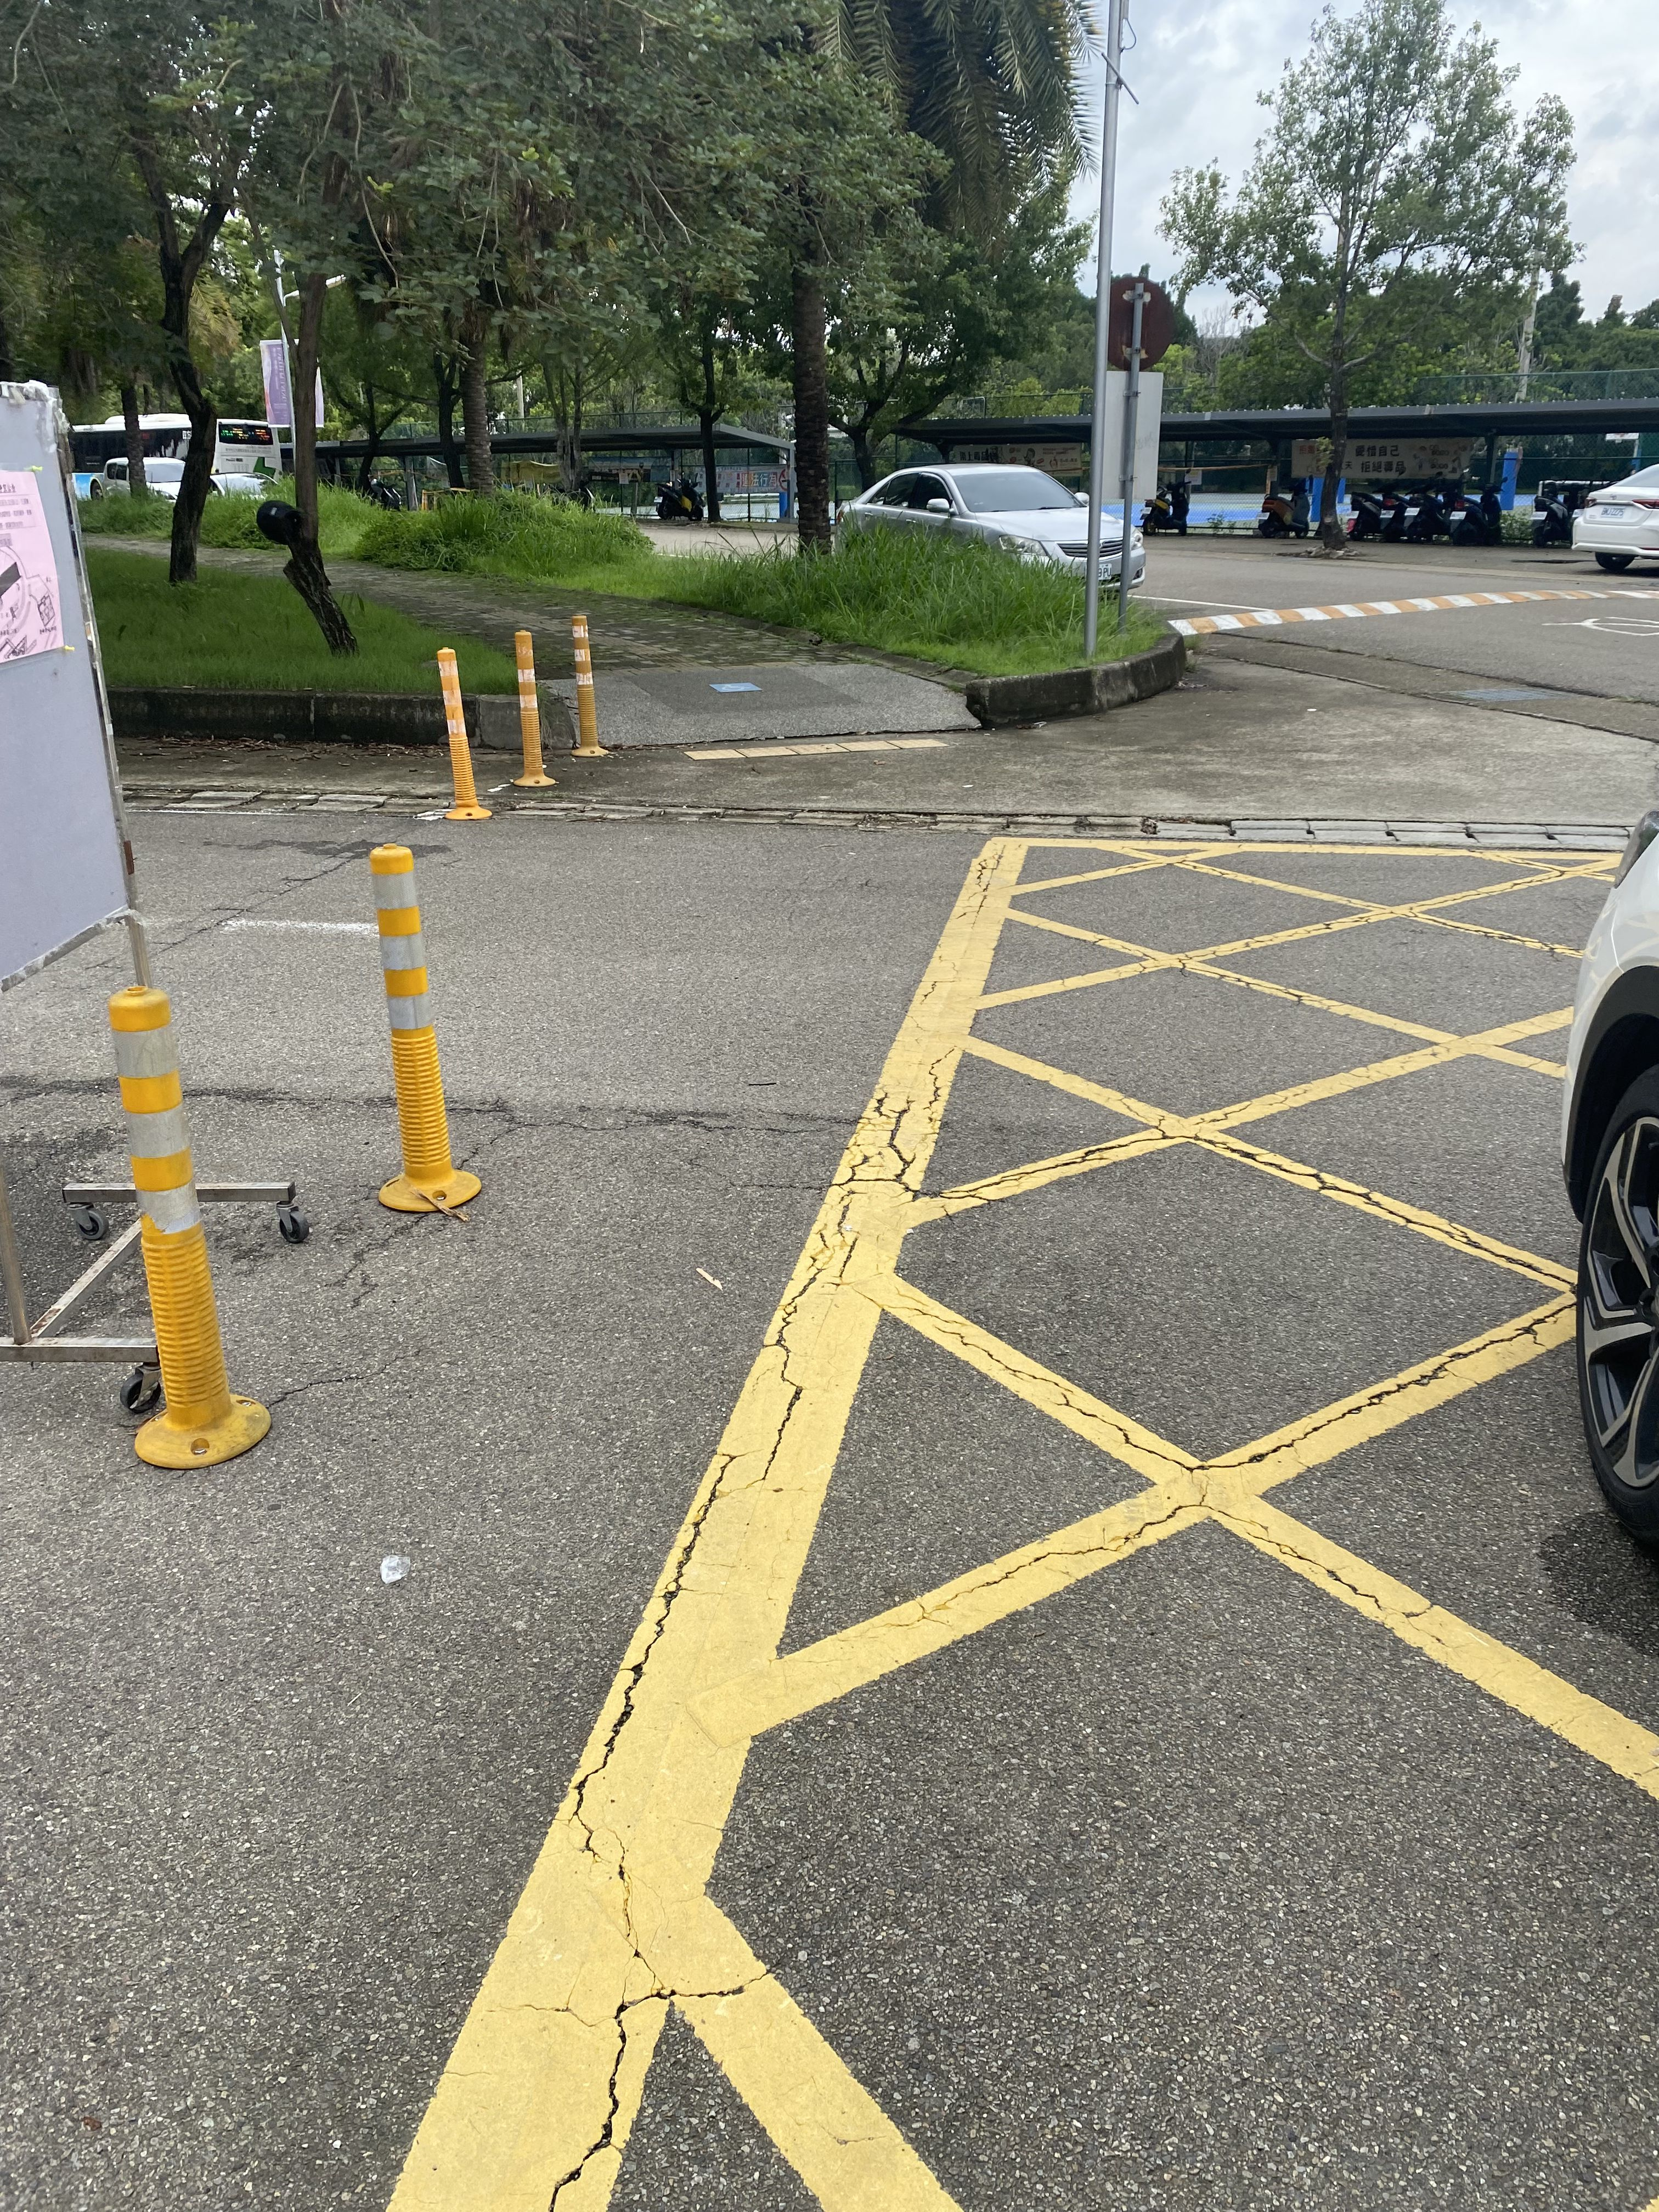sidewalk: (356, 554, 985, 786)
